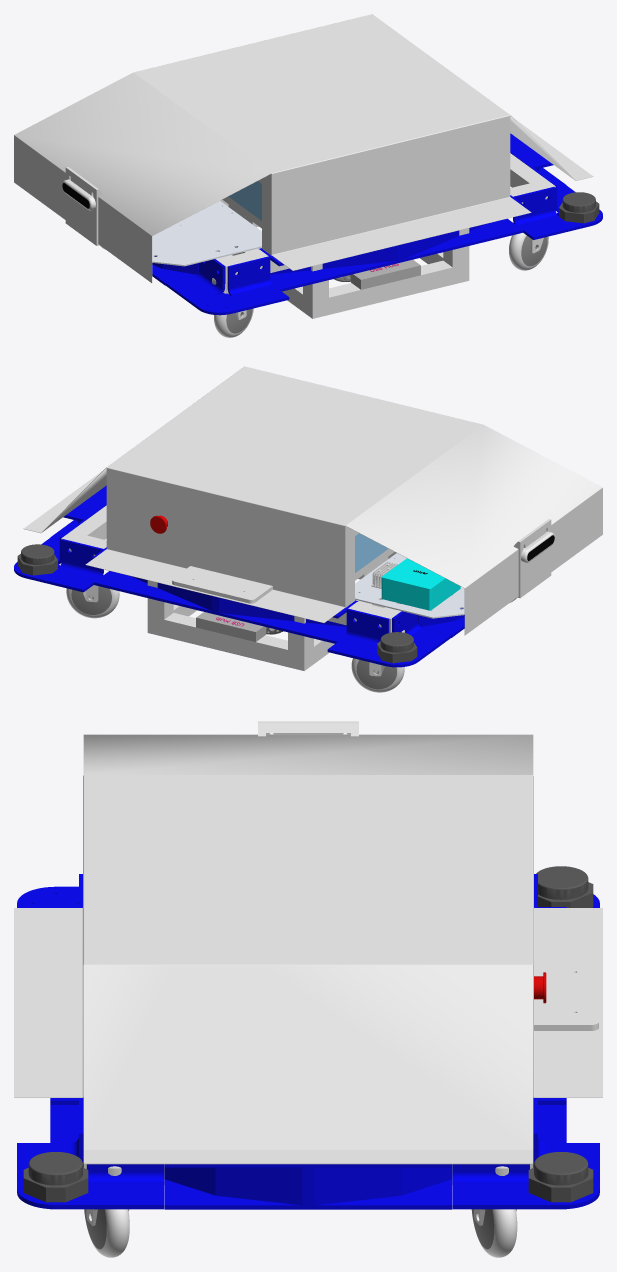
The model's file is amir-2023-faceted.glb.
The picture shows the model from 3 angles, top to bottom: view 1: azimuth 30°, elevation 25°; view 2: azimuth 150°, elevation 25°; view 3: azimuth 270°, elevation 25°; orthographic projection. The views are drawn at different scales.
Visible parts, largest first — view 1: cover_sm-1, Structure-1, Fixtures and Brackets-1/Electronics Mount1-1, Fixtures and Brackets-1/Lidar Bracket-2, Fixtures and Brackets-1/Lidar Bracket-4, Lidar Side ASSY-2/Lidar Side-1, depth_cam_fixation-1, Lidar Side ASSY-2/Lidar Side - L-1, Lidar Side ASSY-2/Lidar Side - R-1, USB Hub-1, Lidar-2, Castor Assembly-1/Castor Wheel-1 (+5 smaller); view 2: cover_sm-1, Structure-1, Fixtures and Brackets-1/Lidar Bracket-3, Jetson-1, Fixtures and Brackets-1/Lidar Bracket-1, fuse_box_fixation-1, Lidar Side ASSY-1/Lidar Side-1, Fixtures and Brackets-1/Electronics Mount1-1, depth_cam_fixation-1, Lidar Side ASSY-1/Lidar Side - R-1, Lidar Side ASSY-1/Lidar Side - L-1, USB Hub-2 (+8 smaller); view 3: cover_sm-1, Front Bumber-1/Lidar Front1-1, Fixtures and Brackets-1/Lidar Bracket-4, Fixtures and Brackets-1/Lidar Bracket-1, fuse_box_fixation-1, Lidar-2, Lidar-4, Front Bumber-1/Lidar Side - R - Copy-1, Front Bumber-1/Lidar Side - L - Copy-1, Lidar-3, Castor Assembly-1/Castor Wheel-1, Castor Assembly-2/Castor Wheel-1 (+4 smaller).
Boxes of the visible parts, box(x1,y1,x2,y2) form: cover_sm-1: box(14, 14, 593, 282); Structure-1: box(216, 153, 555, 318); Fixtures and Brackets-1/Electronics Mount1-1: box(152, 201, 261, 266); Fixtures and Brackets-1/Lidar Bracket-2: box(166, 256, 289, 315); Fixtures and Brackets-1/Lidar Bracket-4: box(513, 167, 602, 239); Lidar Side ASSY-2/Lidar Side-1: box(344, 234, 450, 274); depth_cam_fixation-1: box(65, 167, 103, 245); Lidar Side ASSY-2/Lidar Side - L-1: box(259, 248, 351, 291); Lidar Side ASSY-2/Lidar Side - R-1: box(443, 195, 523, 250); USB Hub-1: box(350, 259, 420, 289); Lidar-2: box(559, 192, 599, 223); Castor Assembly-1/Castor Wheel-1: box(509, 233, 548, 270); cover_sm-1: box(23, 366, 602, 635); Structure-1: box(61, 505, 401, 670); Fixtures and Brackets-1/Lidar Bracket-3: box(327, 608, 450, 667); Jetson-1: box(381, 558, 460, 610); Fixtures and Brackets-1/Lidar Bracket-1: box(14, 520, 103, 592); fuse_box_fixation-1: box(172, 566, 272, 603); Lidar Side ASSY-1/Lidar Side-1: box(166, 586, 272, 626); Fixtures and Brackets-1/Electronics Mount1-1: box(355, 553, 464, 618); depth_cam_fixation-1: box(513, 519, 551, 598); Lidar Side ASSY-1/Lidar Side - R-1: box(265, 600, 358, 643); Lidar Side ASSY-1/Lidar Side - L-1: box(93, 547, 173, 602); USB Hub-2: box(196, 612, 266, 641); cover_sm-1: box(14, 734, 602, 1164); Front Bumber-1/Lidar Front1-1: box(215, 1164, 401, 1209); Fixtures and Brackets-1/Lidar Bracket-4: box(17, 1100, 164, 1209); Fixtures and Brackets-1/Lidar Bracket-1: box(452, 1100, 599, 1209); fuse_box_fixation-1: box(534, 959, 598, 1030); Lidar-2: box(23, 1152, 88, 1202); Lidar-4: box(528, 1152, 593, 1202); Front Bumber-1/Lidar Side - R - Copy-1: box(401, 1164, 452, 1209); Front Bumber-1/Lidar Side - L - Copy-1: box(164, 1164, 215, 1209); Lidar-3: box(536, 866, 593, 907); Castor Assembly-1/Castor Wheel-1: box(84, 1209, 129, 1257); Castor Assembly-2/Castor Wheel-1: box(471, 1209, 517, 1257).
Size of the model in its own units: 1.09 by 0.3829 by 0.76.
